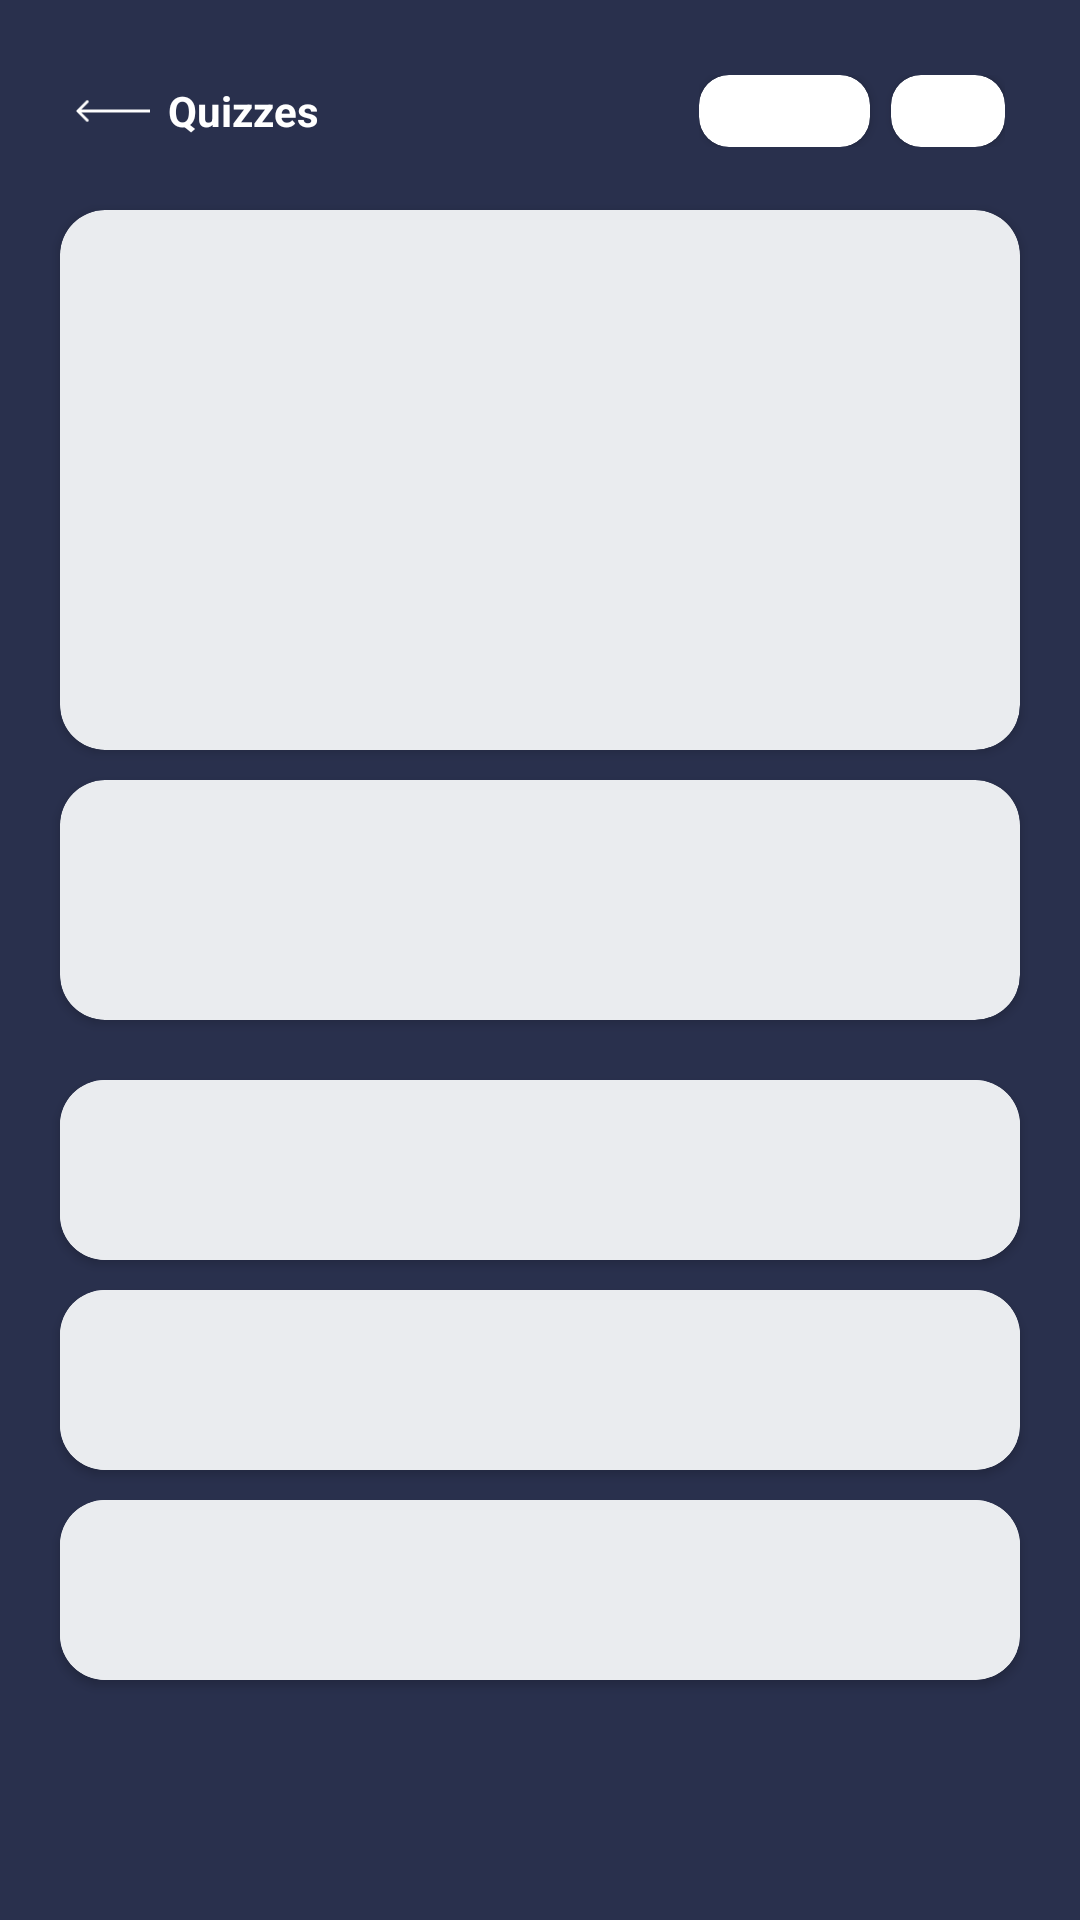

Icon click points for this 1080px x 1920px phone screenshot, format (x=x, y=y):
line back: (x=113, y=111)
